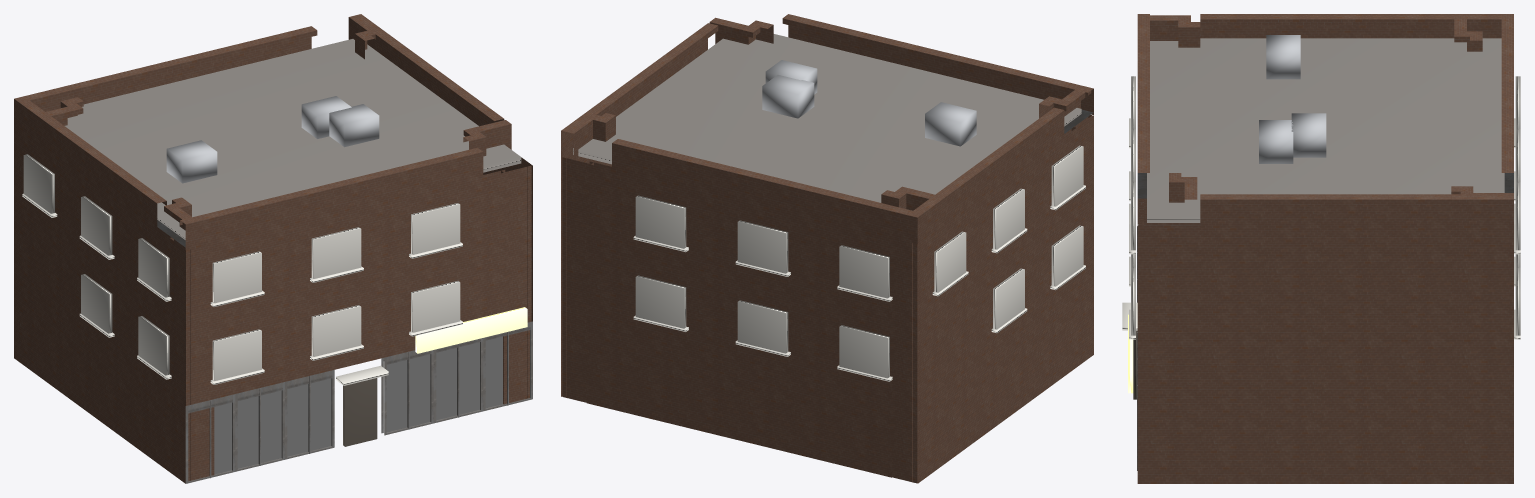
Rendered from b_shop3.gltf.
3 renders of one model, left to right at view 1: azimuth 30°, elevation 25°; view 2: azimuth 150°, elevation 25°; view 3: azimuth 270°, elevation 25°, orthographic. The views are drawn at different scales.
Visible parts, largest first — view 1: b_shop3; view 2: b_shop3; view 3: b_shop3.
Boxes of the visible parts, bbox=[...] form: b_shop3: bbox=[14, 14, 532, 483]; b_shop3: bbox=[561, 14, 1093, 483]; b_shop3: bbox=[1122, 14, 1520, 483].
Bounding box in the file's own units: 14.24 × 10.3 × 12.7.
Materials: 14 (5 with a texture image).
